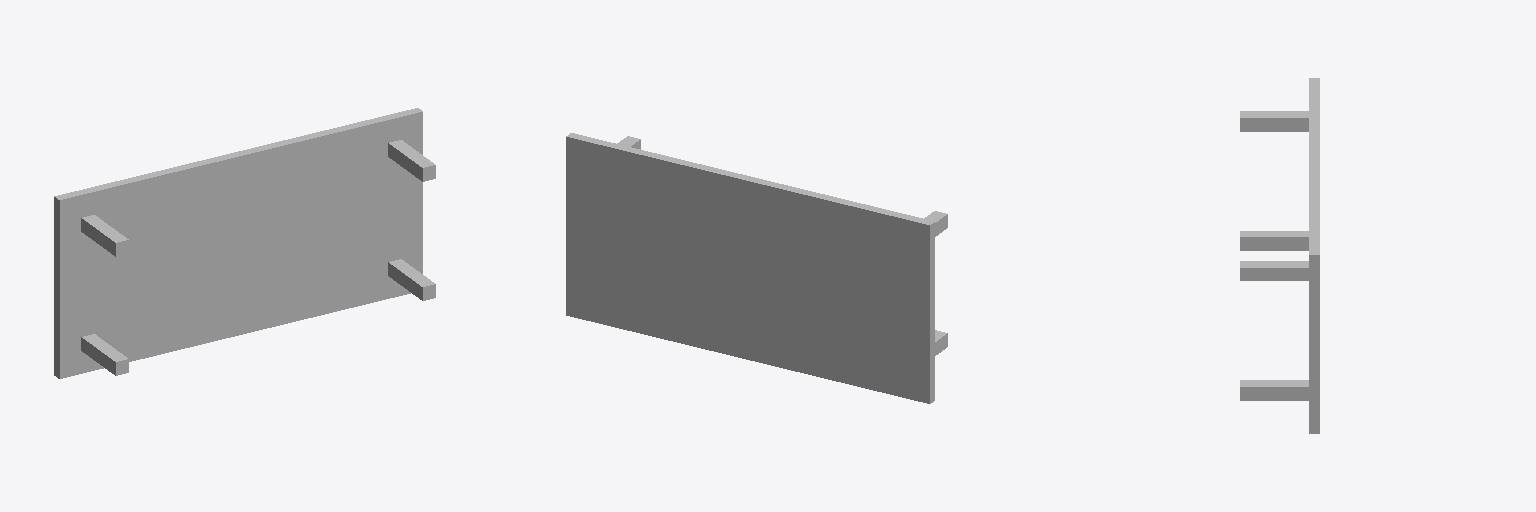
File: random_table31.obj
3 views of the same model, side by side, from view 1: azimuth 30°, elevation 25°; view 2: azimuth 150°, elevation 25°; view 3: azimuth 270°, elevation 25° (orthographic).
Visible parts, largest first — view 1: Table_Cube.350, TableLeg0_Cube.351, TableLeg1_Cube.352, TableLeg2_Cube.353, TableLeg3_Cube.354; view 2: Table_Cube.350; view 3: Table_Cube.350, TableLeg1_Cube.352, TableLeg2_Cube.353, TableLeg0_Cube.351, TableLeg3_Cube.354.
Boxes of the visible parts, x1=… form: Table_Cube.350: x1=54, y1=108, x2=422, y2=378; TableLeg0_Cube.351: x1=388, y1=140, x2=435, y2=181; TableLeg1_Cube.352: x1=81, y1=215, x2=128, y2=256; TableLeg2_Cube.353: x1=388, y1=259, x2=435, y2=300; TableLeg3_Cube.354: x1=81, y1=334, x2=128, y2=375; Table_Cube.350: x1=566, y1=133, x2=934, y2=403; Table_Cube.350: x1=1309, y1=78, x2=1319, y2=433; TableLeg1_Cube.352: x1=1240, y1=111, x2=1308, y2=131; TableLeg2_Cube.353: x1=1240, y1=380, x2=1308, y2=400; TableLeg0_Cube.351: x1=1240, y1=261, x2=1308, y2=280; TableLeg3_Cube.354: x1=1240, y1=231, x2=1308, y2=250.
Size of the model in its own units: 9.94 by 4.67 by 1.87.